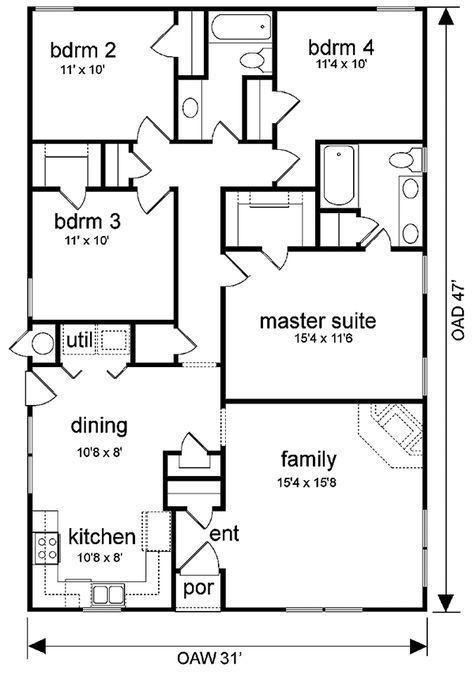door: (172, 542, 220, 580), (17, 371, 65, 408), (350, 211, 397, 247), (179, 428, 216, 473), (274, 83, 308, 131), (141, 25, 186, 60), (163, 317, 199, 357), (182, 503, 222, 538), (271, 143, 300, 189), (130, 112, 167, 144), (8, 322, 37, 362), (261, 247, 293, 281), (135, 181, 170, 212), (59, 179, 86, 216), (223, 261, 252, 290), (203, 120, 235, 142)
room: (24, 317, 228, 611), (219, 135, 436, 408), (207, 396, 437, 618), (222, 243, 433, 406), (20, 135, 189, 320), (272, 5, 435, 149), (21, 1, 184, 139), (180, 3, 243, 142)
wall: (216, 385, 422, 408), (23, 2, 39, 273), (161, 503, 184, 611), (77, 7, 374, 15), (34, 314, 179, 330), (209, 287, 228, 402), (168, 193, 184, 328), (411, 402, 431, 509), (193, 8, 217, 83), (166, 58, 187, 141), (362, 588, 426, 614), (309, 138, 324, 247), (27, 130, 133, 145), (237, 70, 259, 141), (310, 133, 426, 146), (23, 493, 35, 613), (414, 173, 430, 259), (222, 180, 313, 195), (421, 1, 430, 148), (419, 288, 435, 361), (214, 604, 287, 620), (215, 183, 231, 254), (165, 470, 223, 489), (215, 439, 229, 513), (269, 15, 283, 87), (93, 136, 112, 186), (79, 181, 140, 195), (159, 442, 171, 513), (25, 358, 64, 379), (24, 178, 59, 200), (225, 239, 262, 258), (131, 605, 177, 619), (216, 564, 230, 608), (47, 315, 59, 365), (122, 357, 180, 367), (25, 606, 81, 616), (130, 317, 141, 360)
window: (287, 601, 364, 619), (416, 509, 433, 588), (14, 277, 40, 316), (416, 256, 445, 283), (26, 417, 36, 491), (418, 355, 432, 399), (376, 2, 419, 14)
